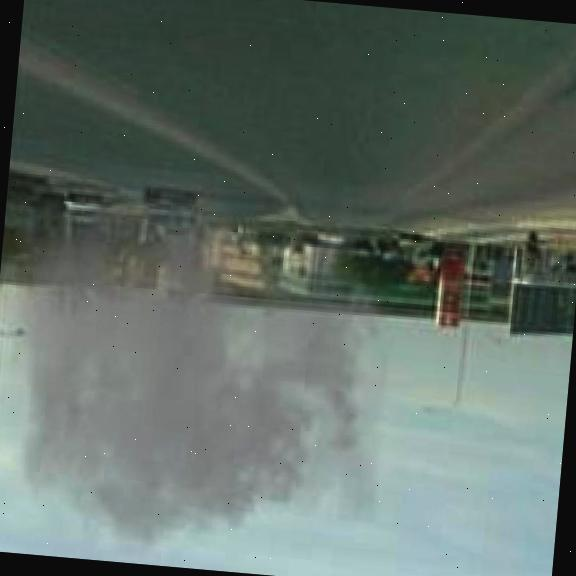smoke: (0, 157, 405, 576)
